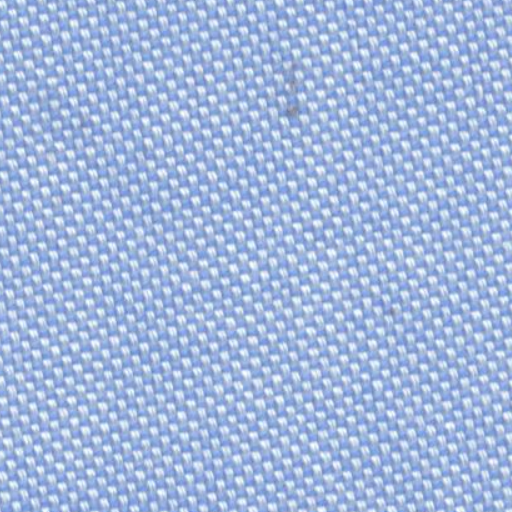WuZi: (272, 48, 326, 135)
